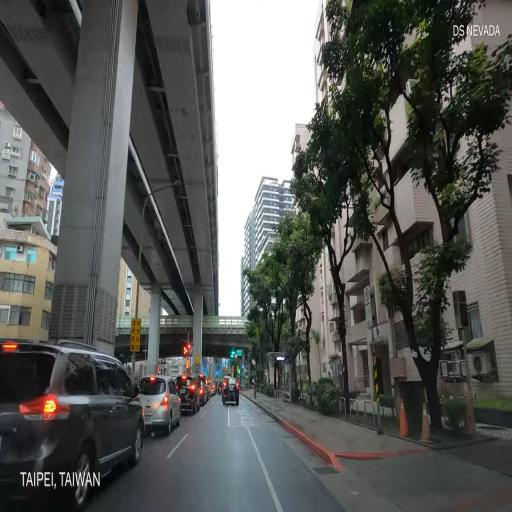Car: (0, 338, 141, 512), (138, 376, 181, 436), (176, 378, 198, 416), (222, 376, 239, 407), (193, 379, 206, 406), (221, 374, 233, 398), (198, 375, 208, 402), (208, 379, 216, 396)
